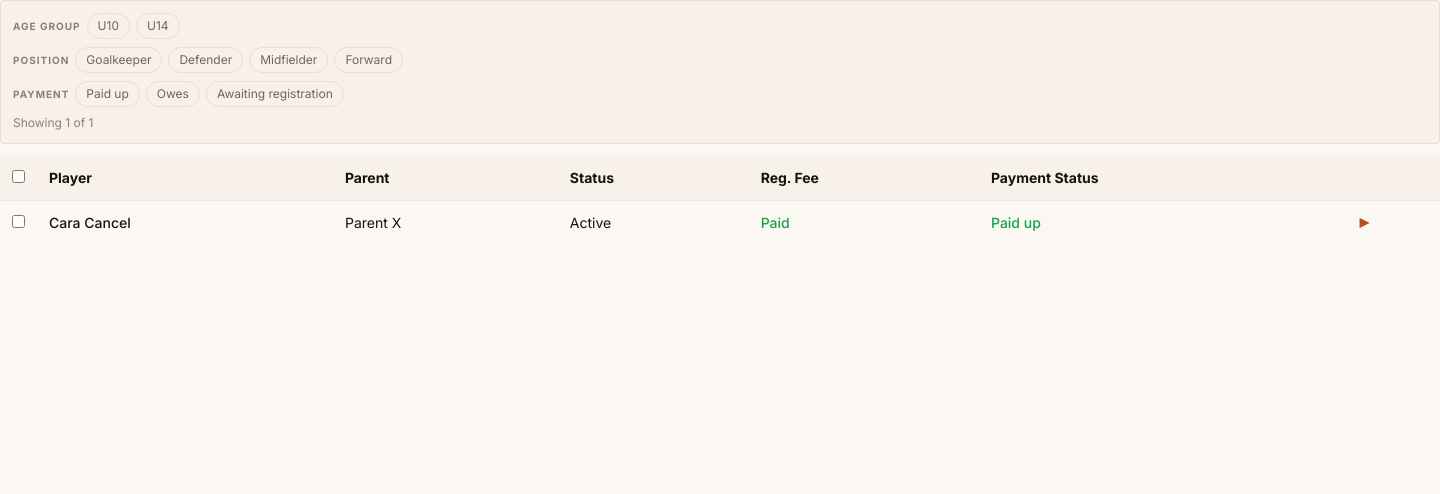
Test: PlayersTable local updates (no reload) › re-fetches and merges a single player after Cancel, reflecting the server-confirmed status
Click the button named "expand row" at (1364, 222), box [1360,213,1368,231]
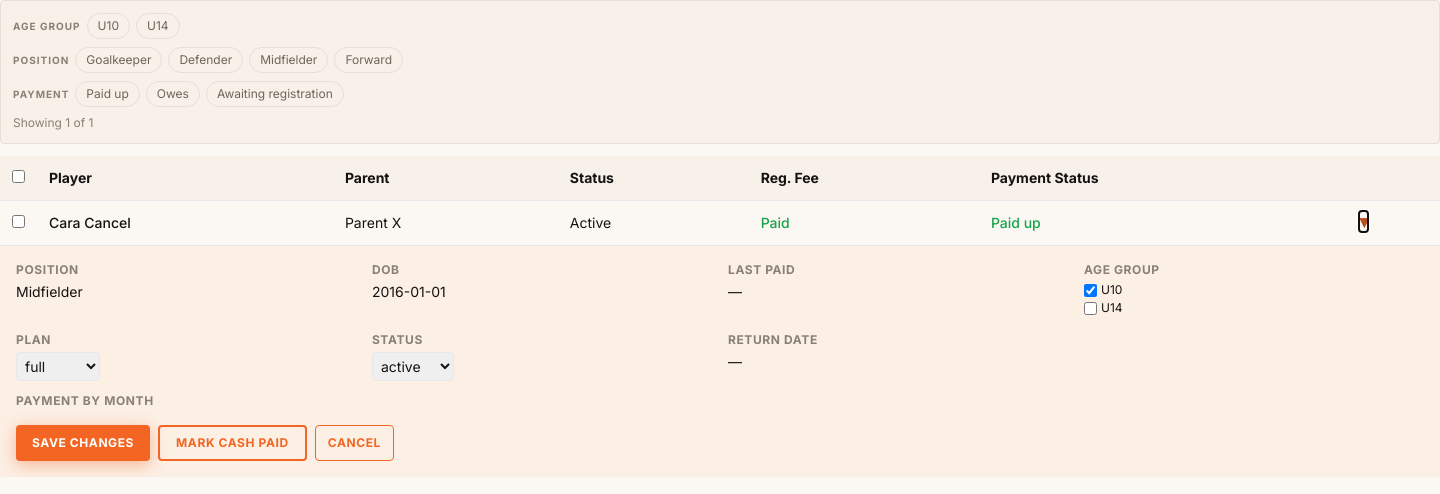
Click the button "Cancel" at (354, 443), box [315,425,394,461]
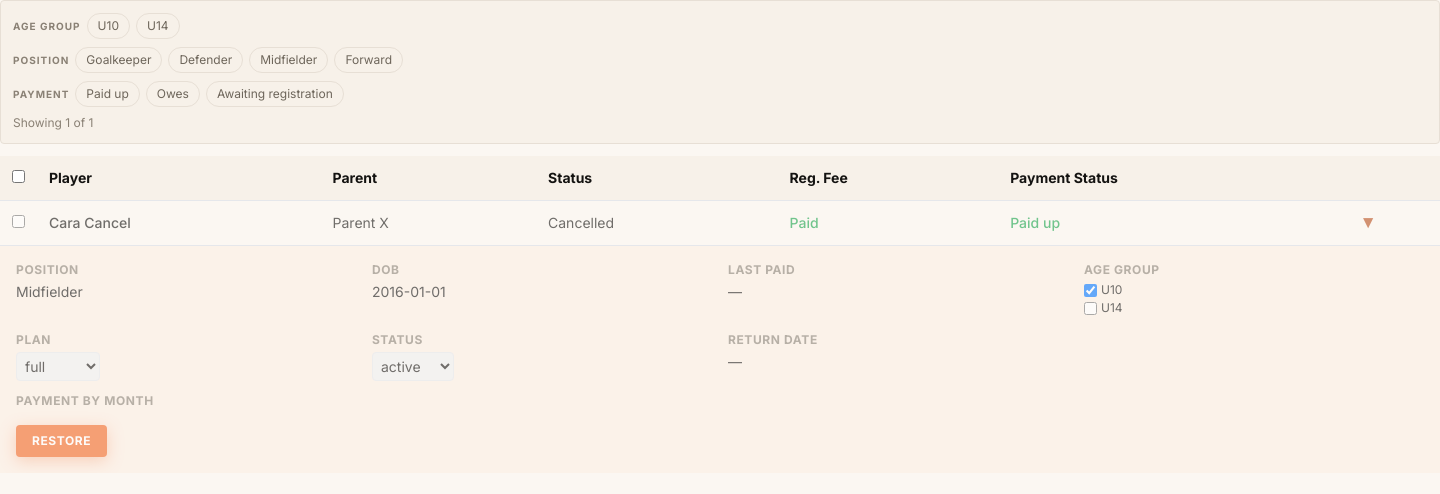
Expected: the text "cancelled" is shown, [536,200,778,246]
